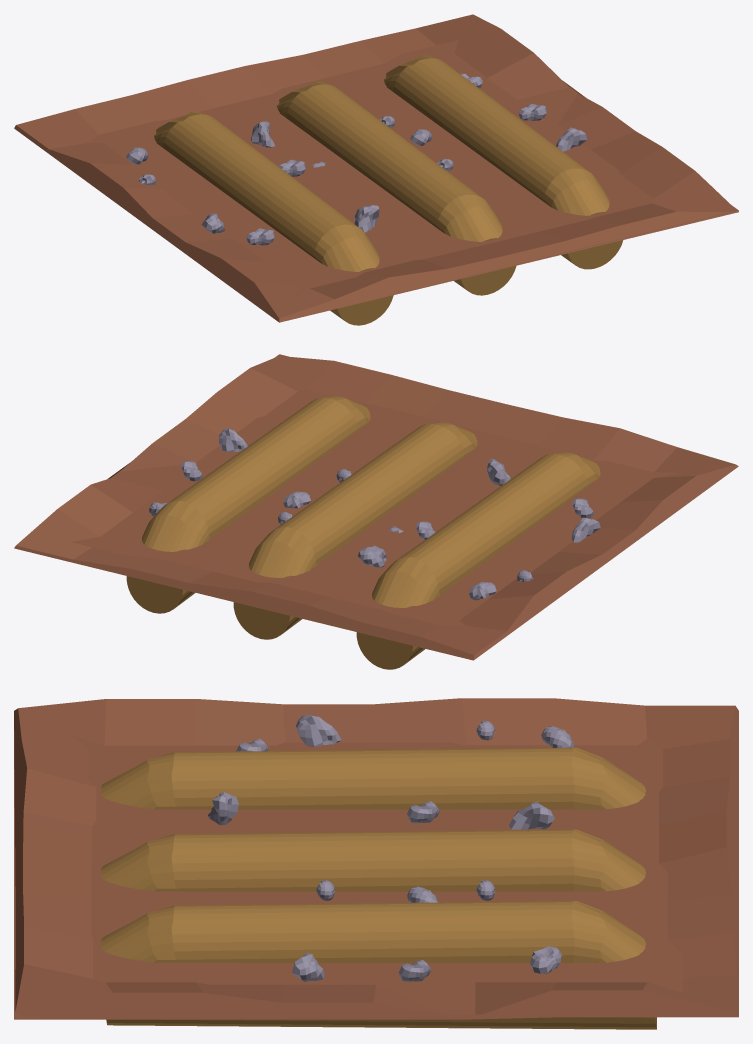
File: brownfieldflat2.fbx
3 renders of one model, top to bottom at view 1: azimuth 30°, elevation 25°; view 2: azimuth 150°, elevation 25°; view 3: azimuth 270°, elevation 25°, orthographic. The views are drawn at different scales.
Visible parts, largest first — view 1: Cube.060; view 2: Cube.060; view 3: Cube.060.
Part boxes in pixels (bbox=[...]): Cube.060: bbox=[14, 14, 738, 325]; Cube.060: bbox=[14, 354, 738, 669]; Cube.060: bbox=[14, 698, 738, 1029].
Bounding box in the file's own units: 1000 × 184 × 1000.
